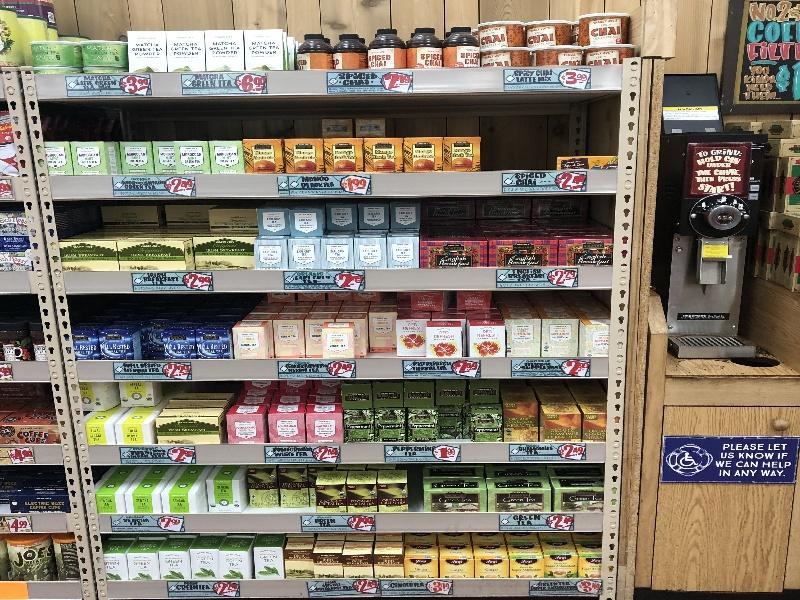void: (478, 91, 555, 171)
